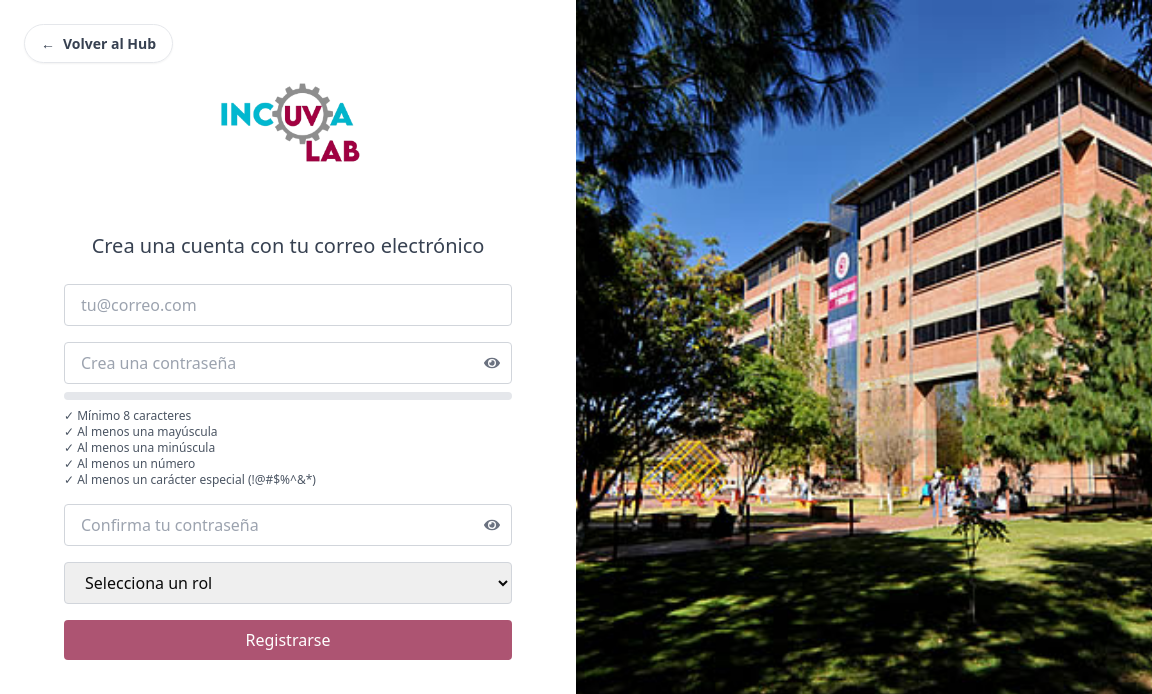
Test: RegisterForm › muestra el error del servidor cuando la API responde con error
Type "Clave123!" into the password field with placeholder "Crea una contraseña" at coordinates (288, 363), box [64,342,512,384]
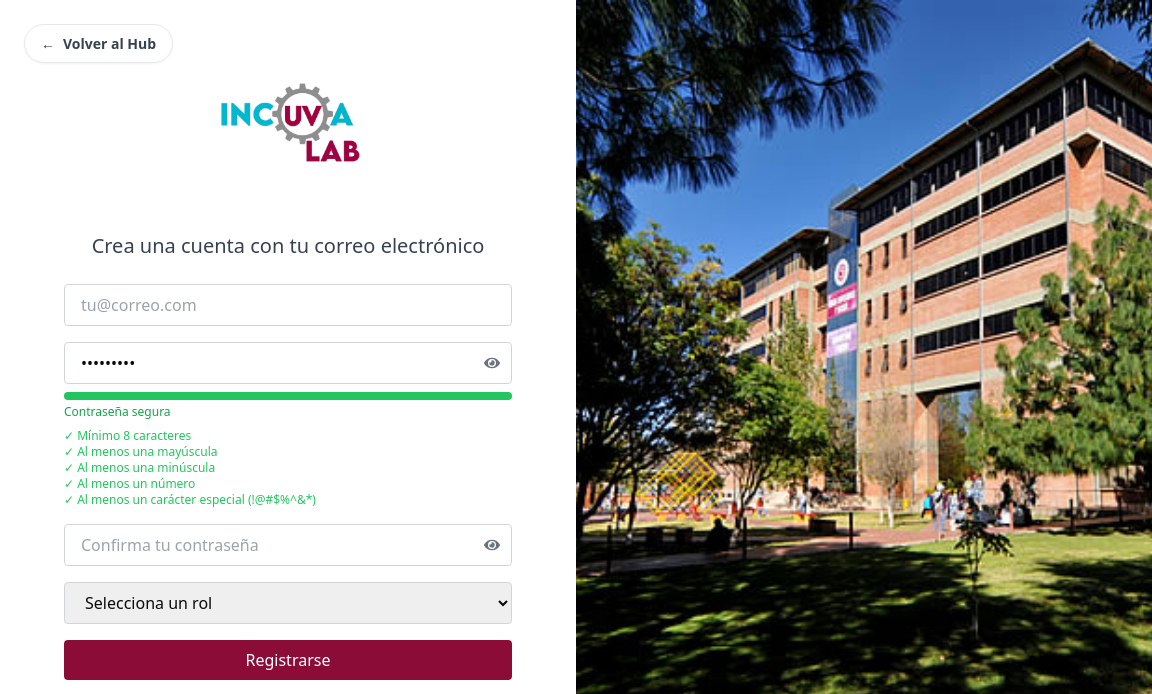
Type "Clave123!" into the password field with placeholder "Confirma tu contraseña" at coordinates (288, 545), box [64,524,512,566]
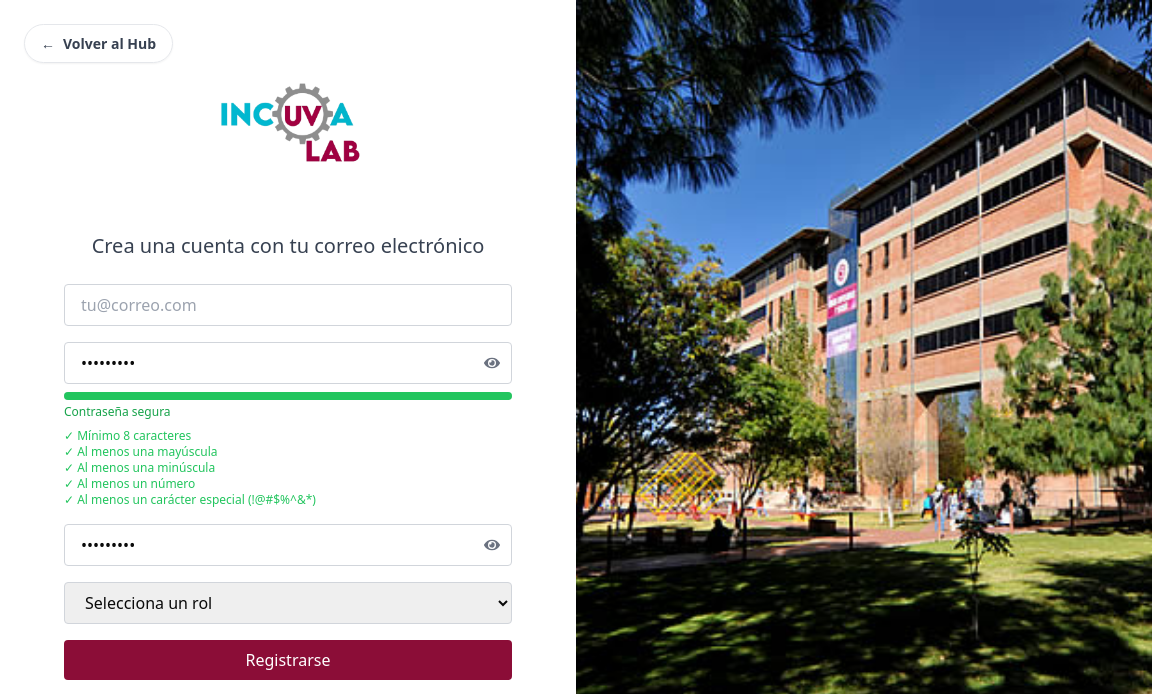
Type "test@example.com" into the field with placeholder "tu@correo.com" at coordinates (288, 305), box [64,284,512,326]
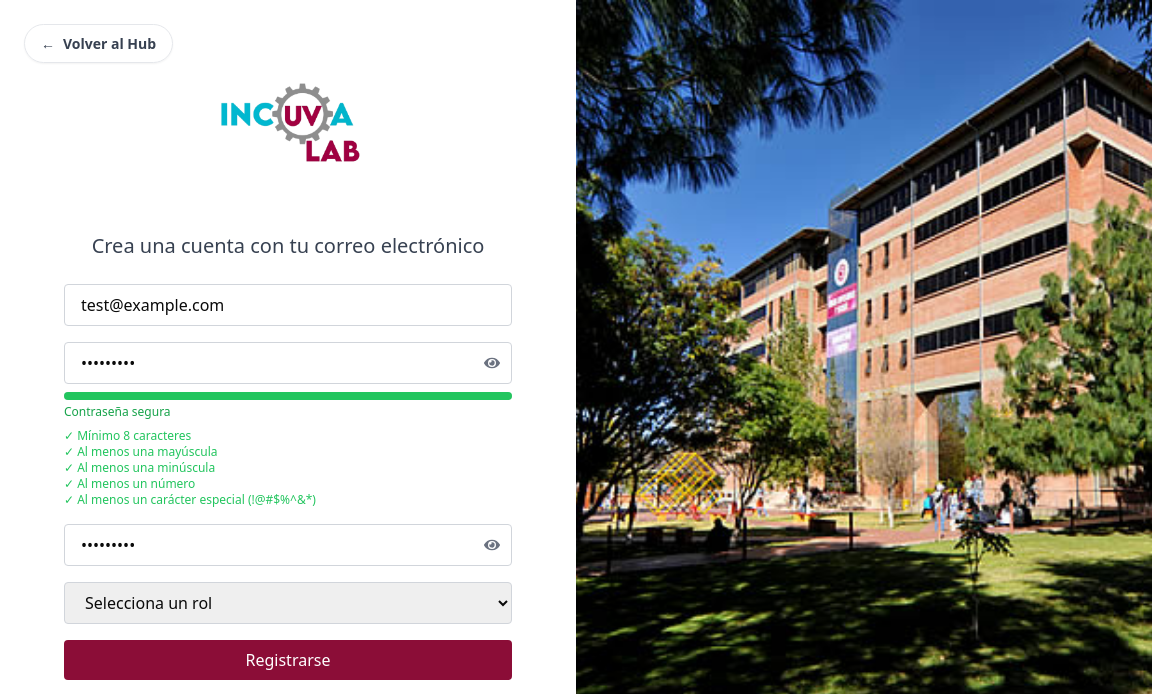
Select "Emprendedor" in the dropdown at coordinates (288, 603), box [64,582,512,624]
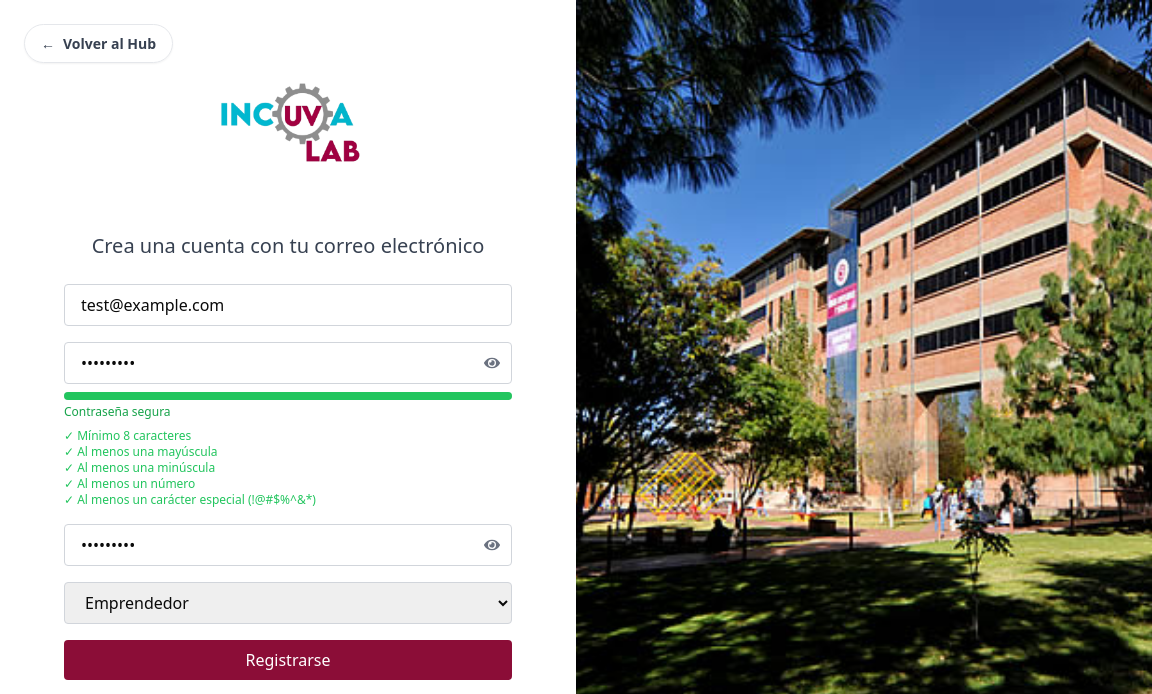
Click the button "Registrarse" at coordinates (288, 660), box [64,640,512,680]
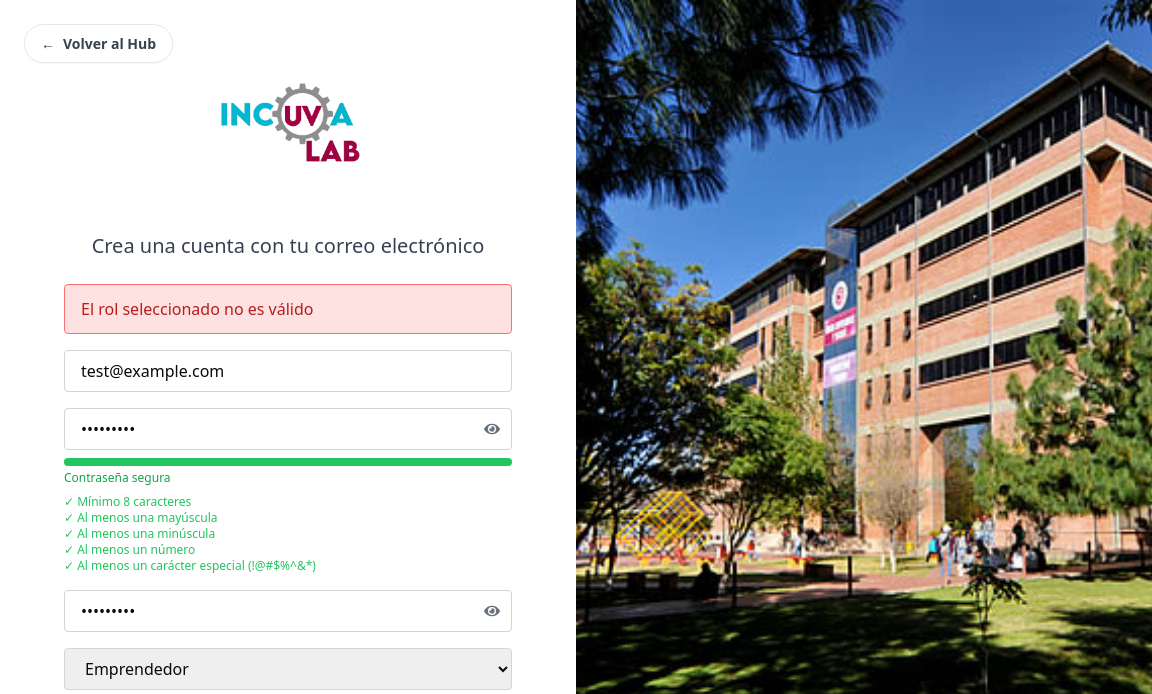
Result: the text "El rol seleccionado no es válido" is shown at [64,284,512,334]
